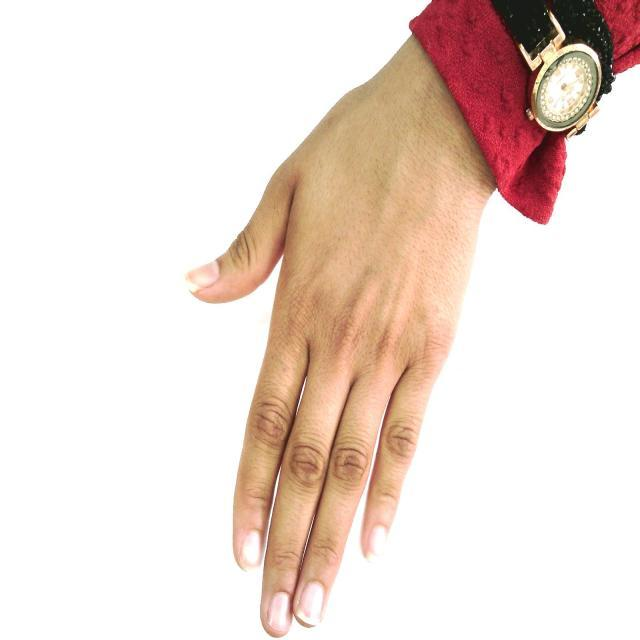Fingernail: (297, 583, 324, 625), (186, 262, 219, 294), (239, 532, 262, 575), (268, 592, 291, 632), (368, 525, 386, 563)
